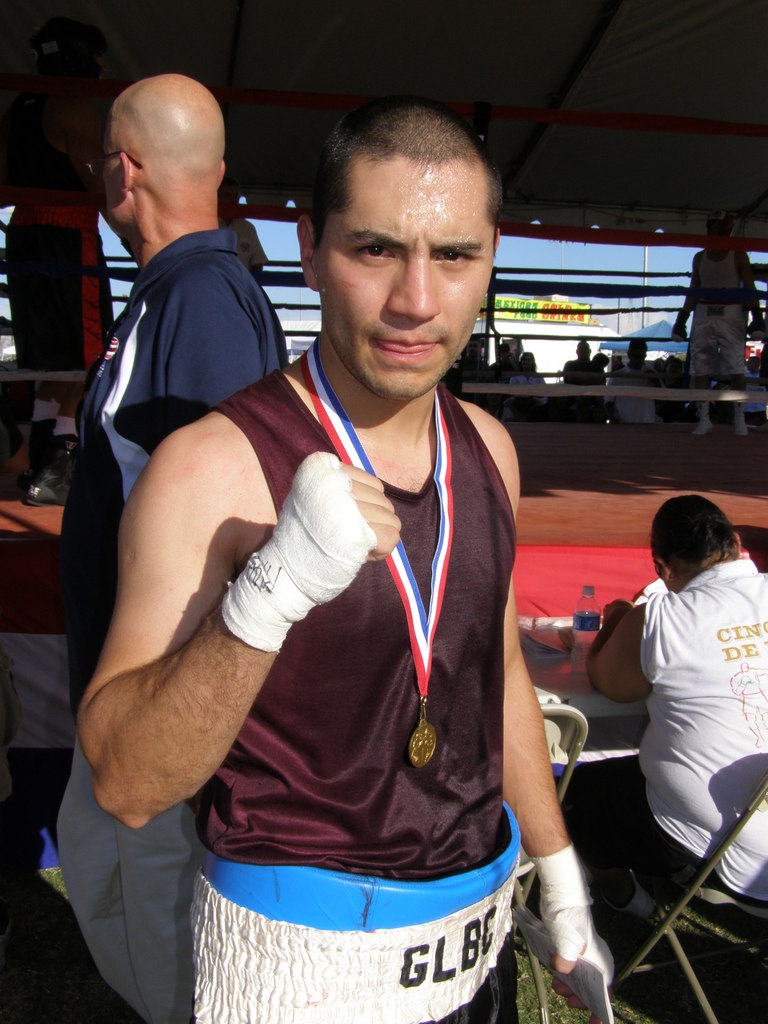Person: (433, 208, 768, 437), (585, 495, 768, 911), (0, 23, 119, 507)
